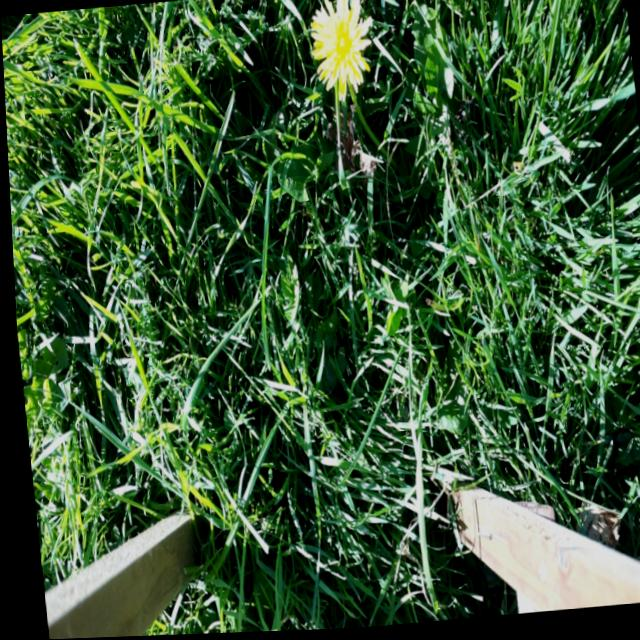base: (370, 136, 398, 180)
